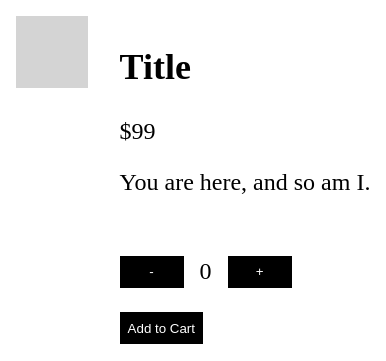
Test case: product quantity › decreases quantity by pressing the '-' button
This screenshot has width=386, height=361.
Click the button "+".
click(260, 272)  # box x1=228 y1=256 x2=292 y2=288
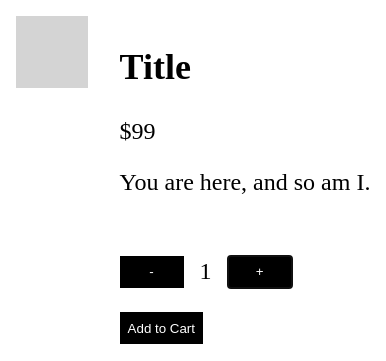
Expected: the text with test id "quantity" reads "1", x1=200 y1=258 x2=212 y2=284
Click the button "-".
click(152, 272)  # box x1=120 y1=256 x2=184 y2=288
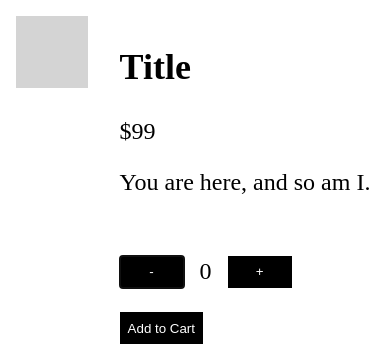
Expected: the text with test id "quantity" reads "0", x1=200 y1=258 x2=212 y2=284
